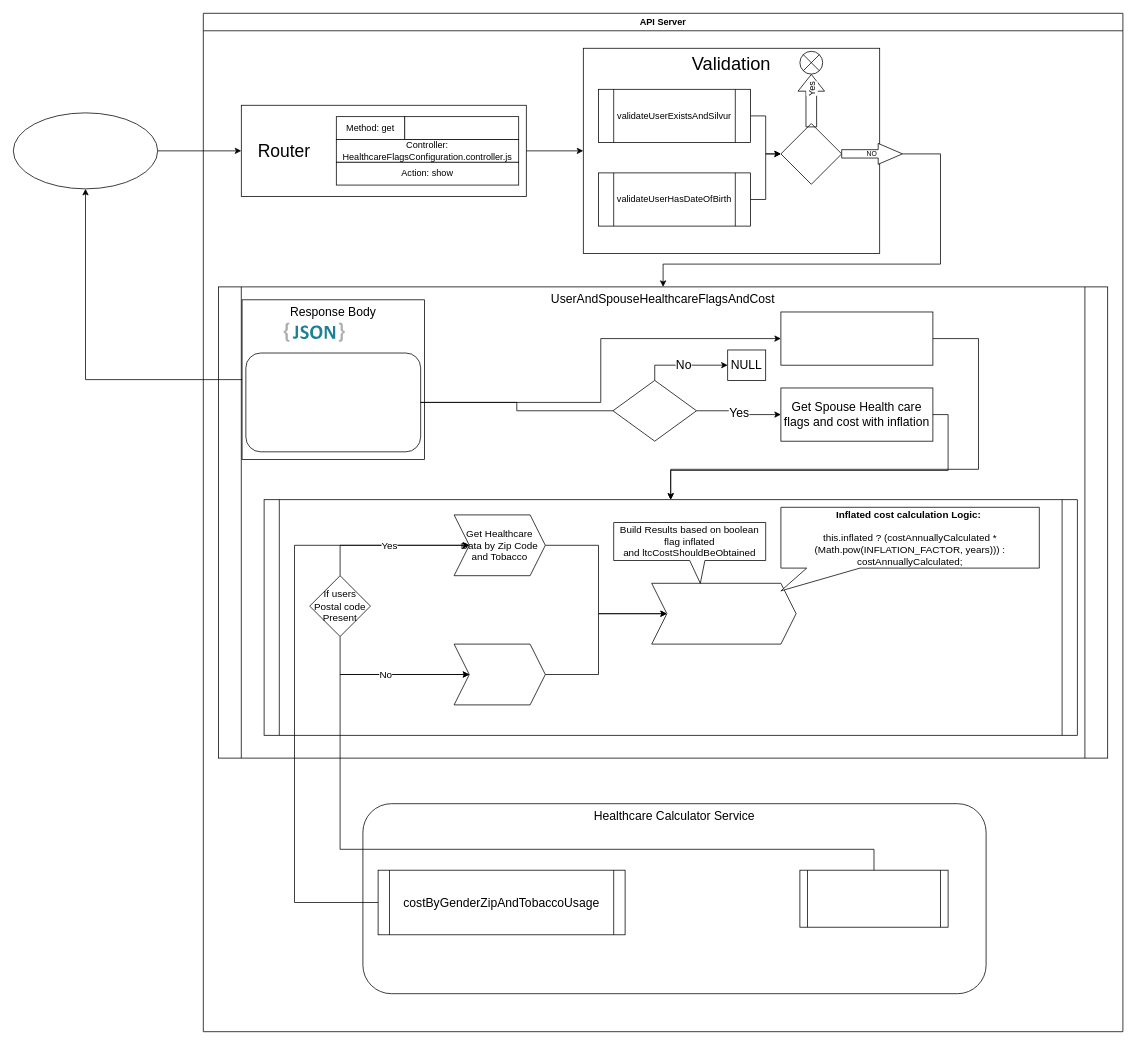
The diagram is 1136 pixels wide and 1045 high, and some of its shapes have lost their labels. Each missing label, with the centre of its shape:
"/healthcare" goes at (461,127).
"CostByState" goes at (873,898).
"Error" goes at (811,153).
"Get Healthcare Data by State Province" goes at (499,674).
"Get Users Health care flags and cost with inflation" goes at (856,338).
"Health care Request" goes at (85,150).
"HealthcareFlagsCalculator buildResults" goes at (723,613).
"If Spouse Present" goes at (654,410).
"{ user: <userData>, spouse: <spouseData> || NULL }" goes at (333,402).
